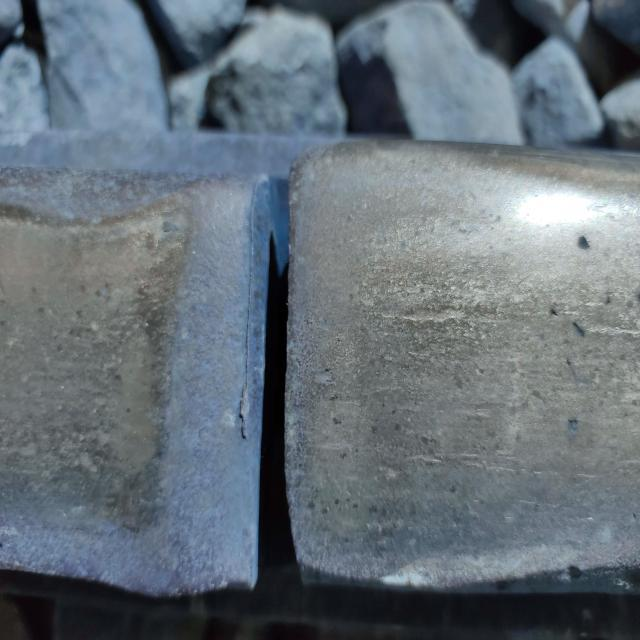broken_rail_low: (170, 119, 377, 606)
